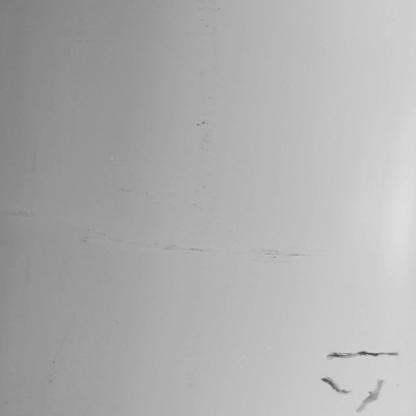fengxi: (322, 346, 404, 361), (360, 380, 386, 412), (318, 377, 351, 395)
